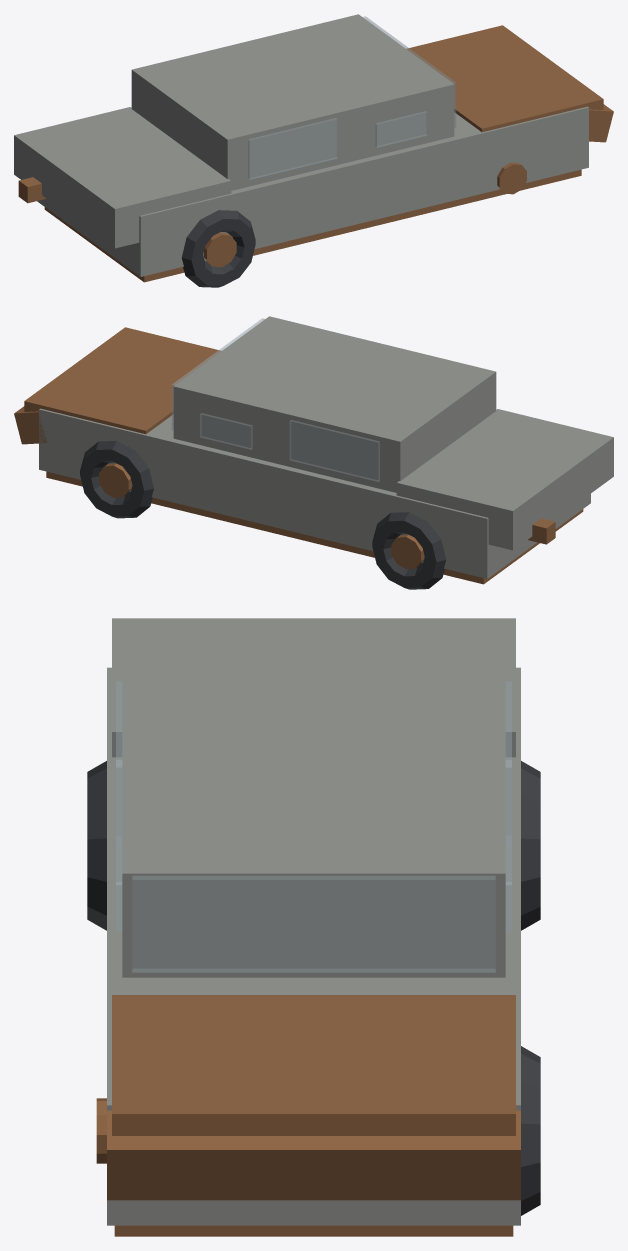
Rendered from wreck.glb.
3 renders of one model, top to bottom at view 1: azimuth 30°, elevation 25°; view 2: azimuth 150°, elevation 25°; view 3: azimuth 270°, elevation 25°, orthographic. The views are drawn at different scales.
Parts seen in each view (by area): view 1: wreck; view 2: wreck; view 3: wreck.
Boxes of the visible parts, bbox=[...] form: wreck: bbox=[14, 14, 613, 287]; wreck: bbox=[14, 316, 613, 589]; wreck: bbox=[87, 618, 540, 1236].
Size of the model in its own units: 4.63 by 1.23 by 1.77.
